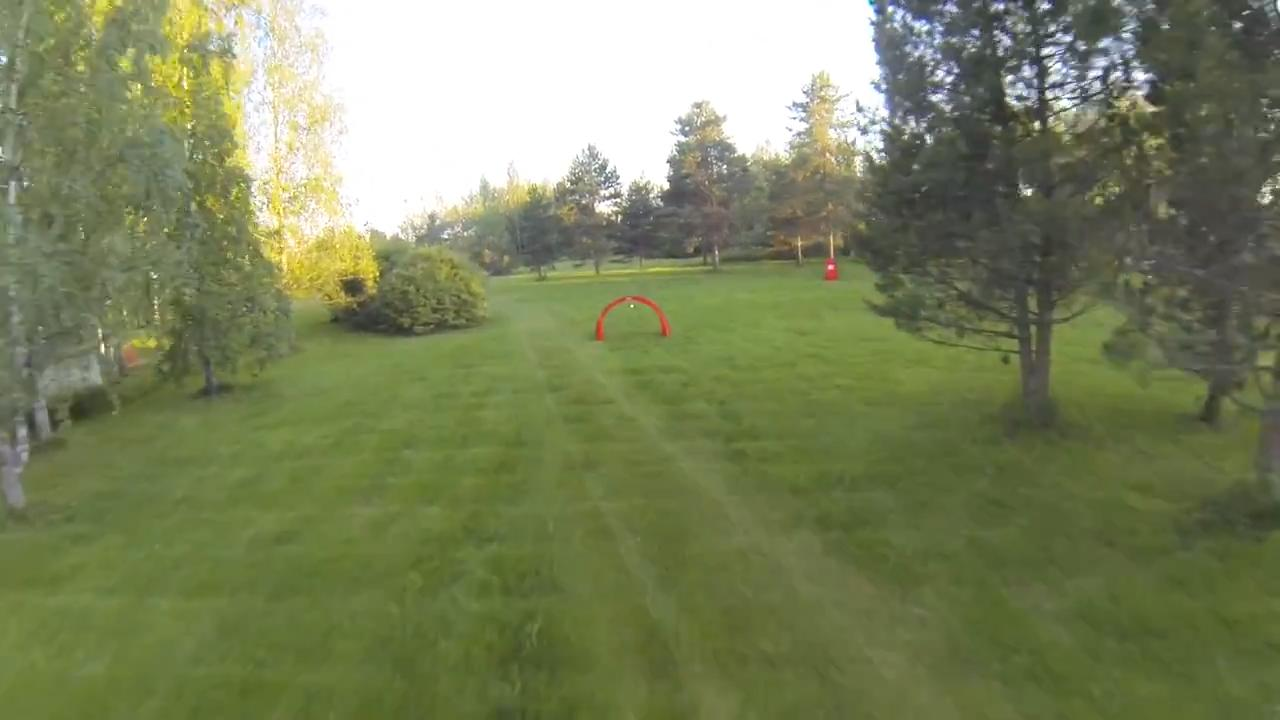gate: (591, 293, 673, 343)
